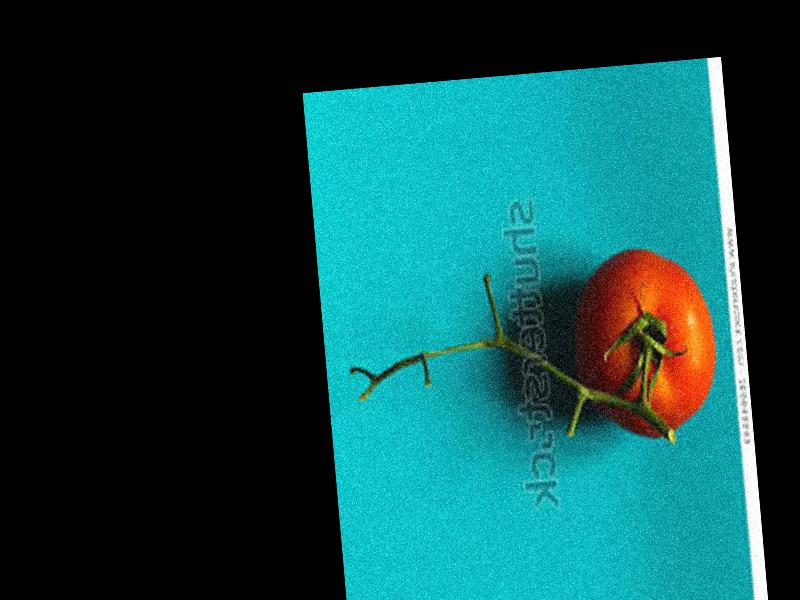Tomato: (570, 244, 720, 445)
